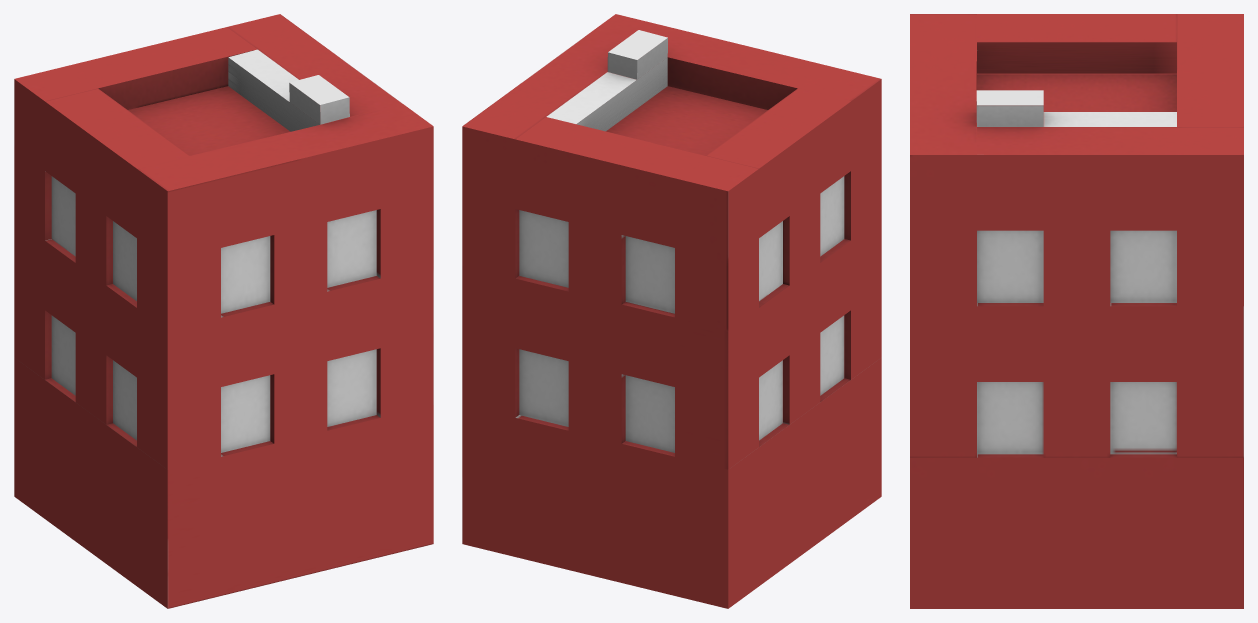
Rendered from lowPolyBuild8OLD.glb.
3 views of the same model, side by side, from view 1: azimuth 30°, elevation 25°; view 2: azimuth 150°, elevation 25°; view 3: azimuth 270°, elevation 25° (orthographic). The views are drawn at different scales.
Parts seen in each view (by area): view 1: Plane; view 2: Plane; view 3: Plane.
Part boxes in pixels (<box>): Plane: <box>14,14,433,608</box>; Plane: <box>462,14,881,608</box>; Plane: <box>910,14,1243,608</box>.
Bounding box in the file's own units: 2 × 3.14 × 2.
1 material, 1 textured.
